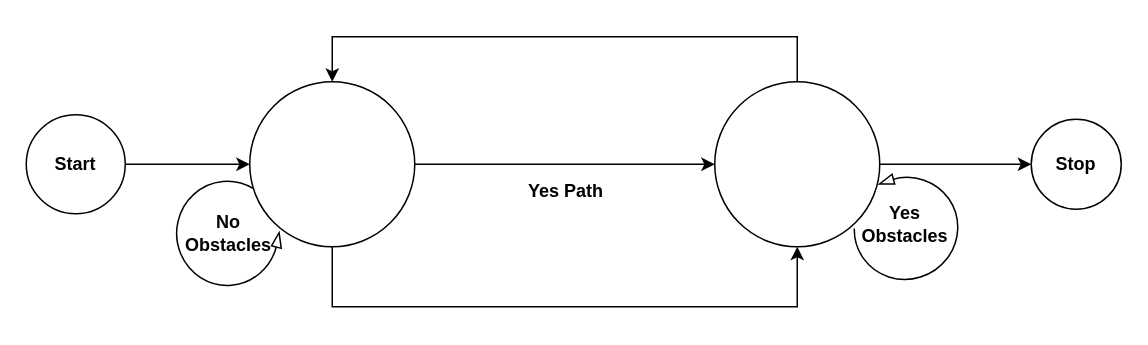
Image size: 1148x345. Some labels were removed from this diagram. Here are the shapes that lost their labels. From the top down, the centre of each, then its label:
(331,163): Stand by
(796,163): Moves
